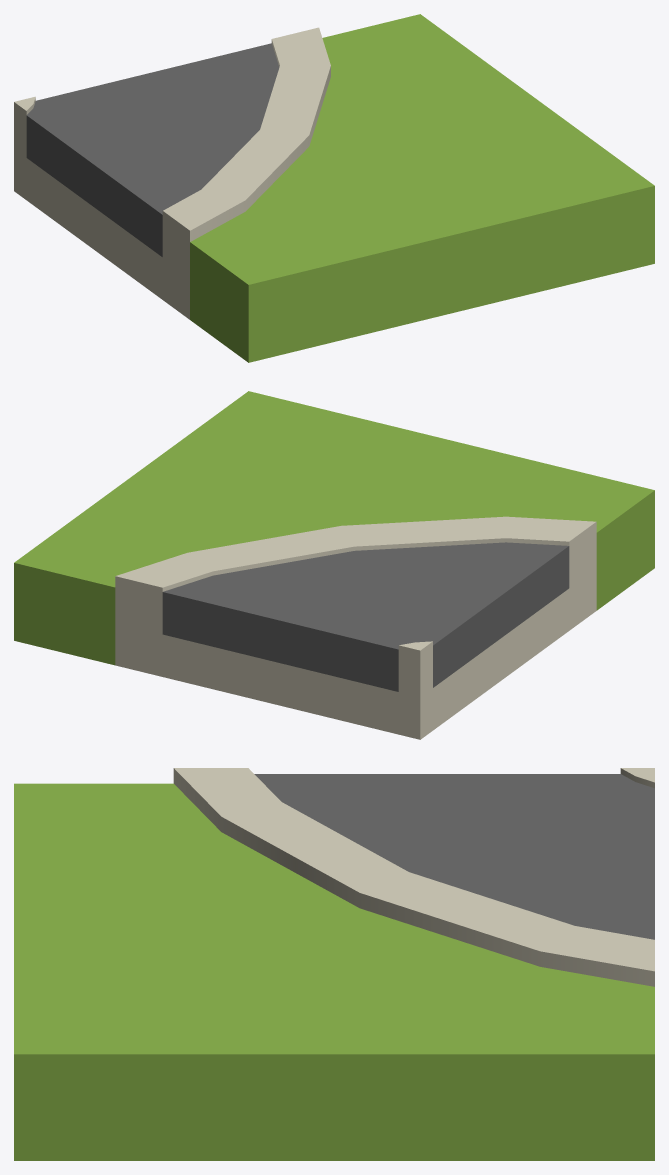
Rendered from tile056.dae.
The picture shows the model from 3 angles, top to bottom: view 1: azimuth 30°, elevation 25°; view 2: azimuth 150°, elevation 25°; view 3: azimuth 270°, elevation 25°; orthographic projection. The views are drawn at different scales.
Visible parts, largest first — view 1: tile056; view 2: tile056; view 3: tile056.
Boxes of the visible parts, <box> form: tile056: <box>14,14,654,362</box>; tile056: <box>14,391,654,739</box>; tile056: <box>14,768,654,1160</box>.
Size of the model in its own units: 1 by 0.21 by 1.
